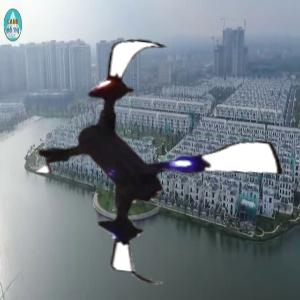drone: (26, 31, 284, 289)
